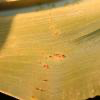Corn rust leaf: (11, 8, 91, 99)
